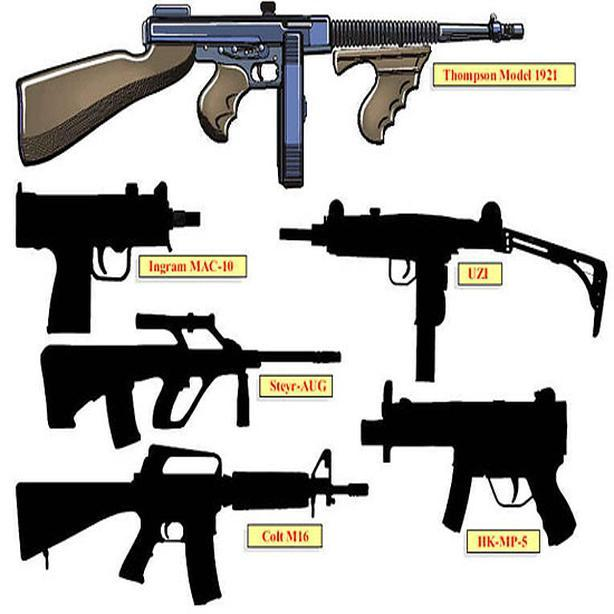Firearm: (12, 9, 572, 192), (17, 446, 378, 602), (333, 382, 599, 563), (32, 327, 353, 438), (10, 177, 209, 326)
